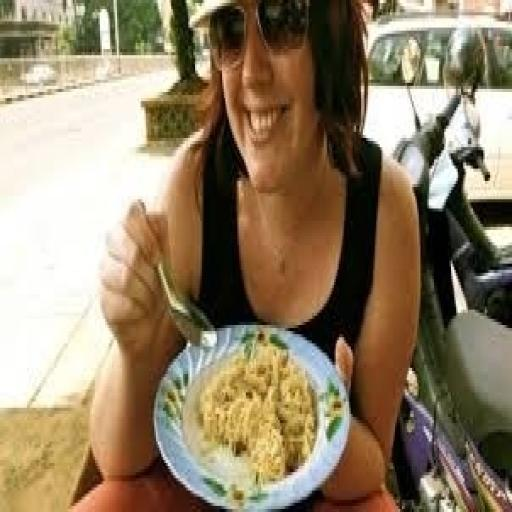eating: (68, 0, 424, 506)
